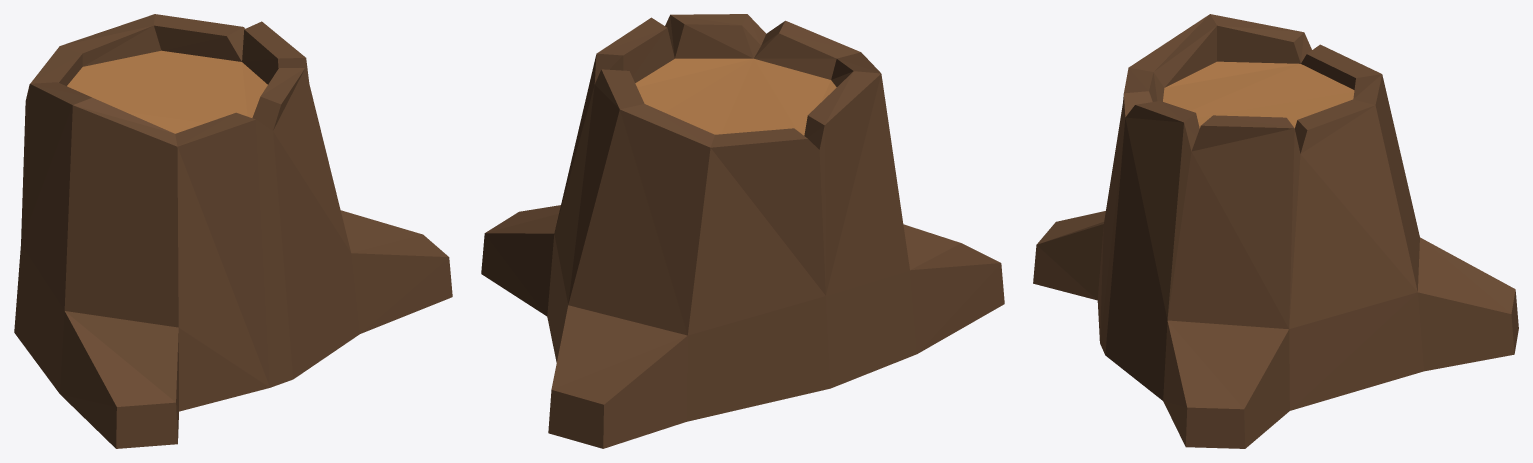
Rendered from stump-02.glb.
The picture shows the model from 3 angles, left to right: view 1: azimuth 30°, elevation 25°; view 2: azimuth 150°, elevation 25°; view 3: azimuth 270°, elevation 25°; orthographic projection. The views are drawn at different scales.
Visible parts, largest first — view 1: Stump3; view 2: Stump3; view 3: Stump3.
Part boxes in pixels (bbox=[...]): Stump3: bbox=[14, 14, 452, 448]; Stump3: bbox=[481, 14, 1004, 448]; Stump3: bbox=[1033, 14, 1518, 448].
Size of the model in its own units: 1.75 by 1.13 by 1.88.
